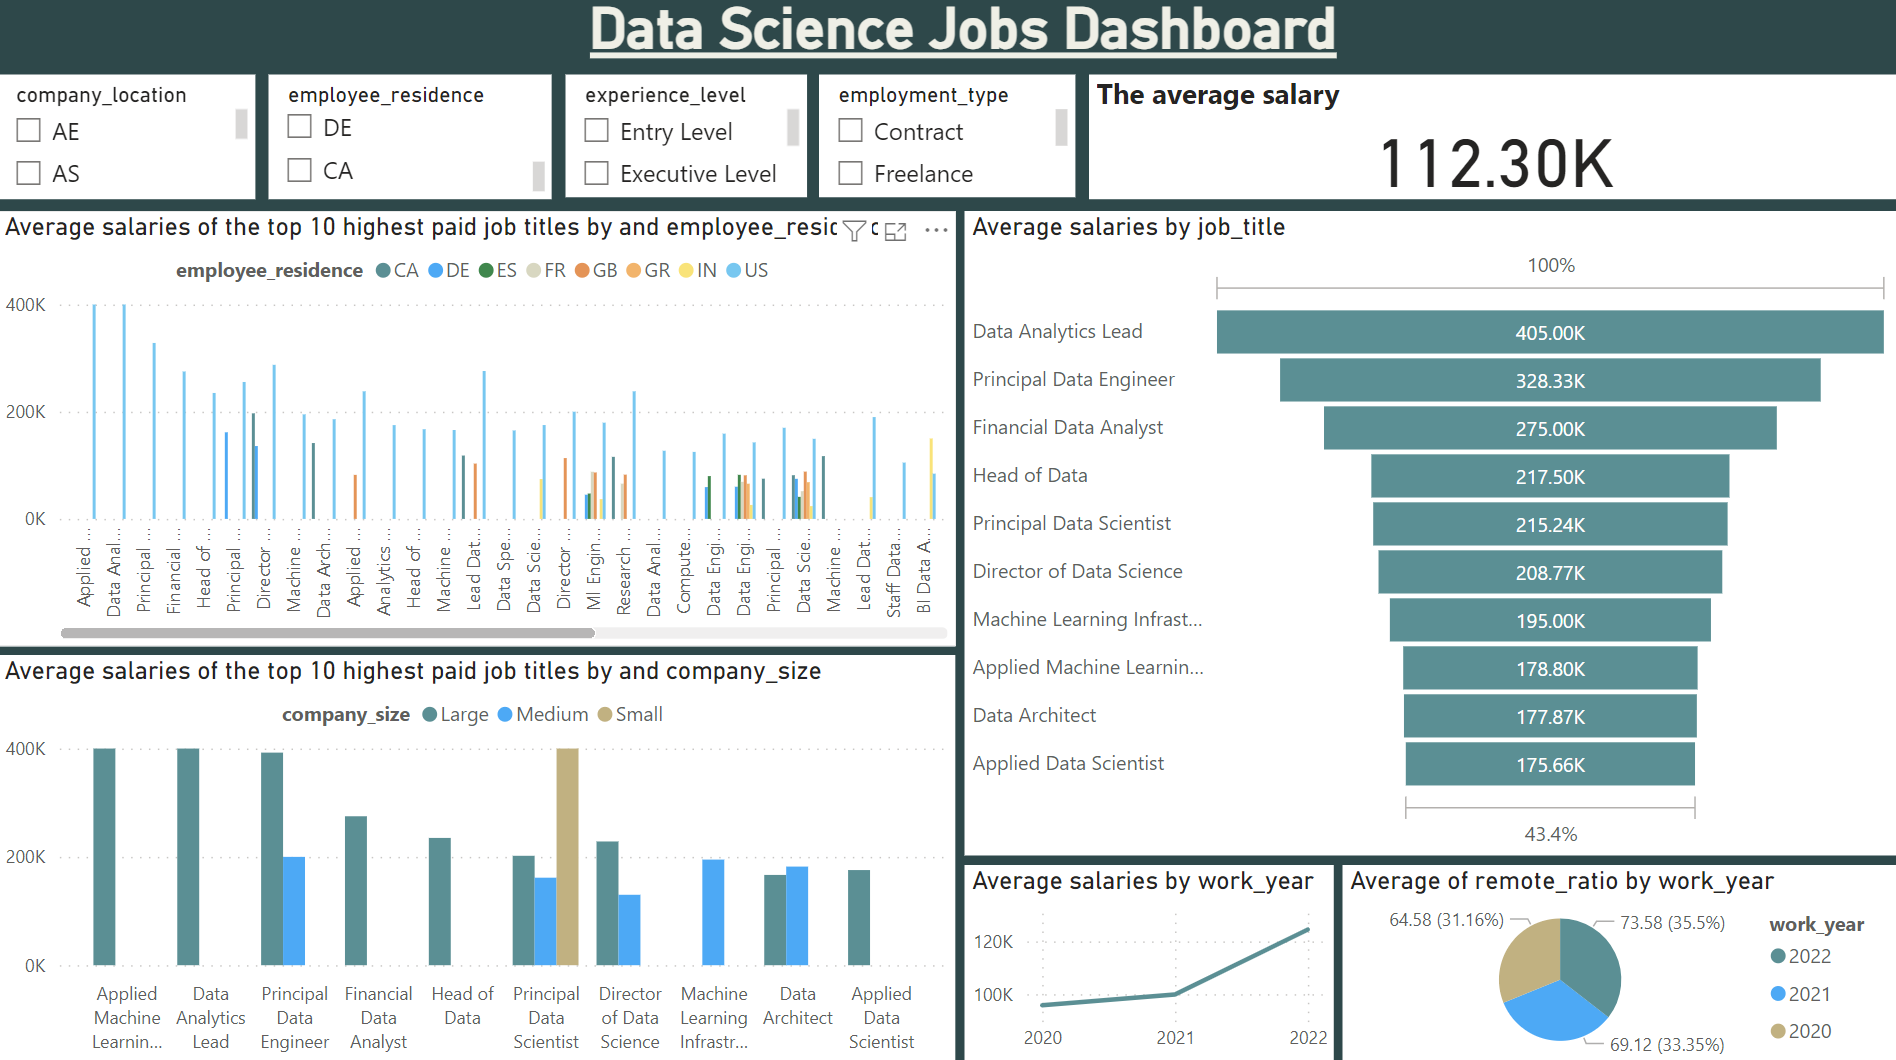

This screenshot's page, from the dashboard's own definition file:
{"tool":"powerbi","page":{"name":"Page 1","canvas":[1280,720],"ordinal":0},"visuals":[{"type":"shape","box":[0,0,1280,719.8],"z":0},{"type":"slicer","fields":{"Values":["ds_salaries.employee_residence"]},"box":[182.8,53.5,190.9,83.8],"z":1000},{"type":"lineClusteredColumnComboChart","fields":{"Y":["Avg(ds_salaries.salary_in_usd)"],"Category":["ds_salaries.job_title"],"Series":["ds_salaries.employee_residence"]},"box":[0,145.6,645,293],"z":2000},{"type":"lineChart","fields":{"Category":["ds_salaries.work_year"],"Y":["Avg(ds_salaries.salary_in_usd)"]},"box":[651.1,585.6,248.9,134.4],"z":3000},{"type":"pieChart","fields":{"Category":["ds_salaries.work_year"],"Y":["Avg(ds_salaries.remote_ratio)"]},"box":[905.6,585.6,374.4,134.4],"z":4000},{"type":"funnel","fields":{"Category":["ds_salaries.job_title"],"Y":["Avg(ds_salaries.salary_in_usd)"]},"box":[651.2,145,628.8,433.8],"z":5000},{"type":"card","title":"The average salary","fields":{"Values":["Avg(ds_salaries.salary_in_usd)"]},"box":[735,53.8,545,83.8],"z":9000},{"type":"textbox","title":"Data Science Jobs Dashboard","box":[393.8,0,515,108.8],"z":10000},{"type":"slicer","fields":{"Values":["ds_salaries.employment_type"]},"box":[553.8,53.8,172.5,82.5],"z":11000},{"type":"slicer","fields":{"Values":["ds_salaries.experience_level"]},"box":[382.5,53.8,162.5,82.5],"z":12000},{"type":"slicer","fields":{"Values":["ds_salaries.company_location"]},"box":[0,53.8,173.8,83.8],"z":13000},{"type":"lineClusteredColumnComboChart","fields":{"Y":["Avg(ds_salaries.salary_in_usd)"],"Category":["ds_salaries.job_title"],"Series":["ds_salaries.company_size"]},"box":[0,444.4,645.6,275.6],"z":13001}]}

Visuals, with their boxes in screenshot pixels (x1, y1, x2, y2), scaled from the page's 1280x720 canvas onto the 1896x1060 screenshot:
shape: crop(0, 0, 1895, 1059)
slicer - ds_salaries.employee_residence: crop(271, 79, 554, 202)
lineClusteredColumnComboChart - Avg(ds_salaries.salary_in_usd) x ds_salaries.job_title: crop(0, 214, 955, 646)
lineChart - ds_salaries.work_year x Avg(ds_salaries.salary_in_usd): crop(964, 862, 1333, 1059)
pieChart - ds_salaries.work_year x Avg(ds_salaries.remote_ratio): crop(1341, 862, 1895, 1059)
funnel - ds_salaries.job_title x Avg(ds_salaries.salary_in_usd): crop(965, 213, 1895, 852)
"The average salary" card: crop(1089, 79, 1895, 203)
"Data Science Jobs Dashboard" textbox: crop(583, 0, 1346, 160)
slicer - ds_salaries.employment_type: crop(820, 79, 1076, 201)
slicer - ds_salaries.experience_level: crop(567, 79, 807, 201)
slicer - ds_salaries.company_location: crop(0, 79, 257, 203)
lineClusteredColumnComboChart - Avg(ds_salaries.salary_in_usd) x ds_salaries.job_title: crop(0, 654, 956, 1059)
